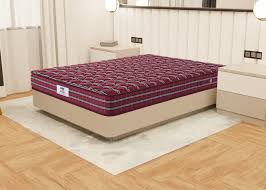bed-matress: (30, 53, 221, 116)
